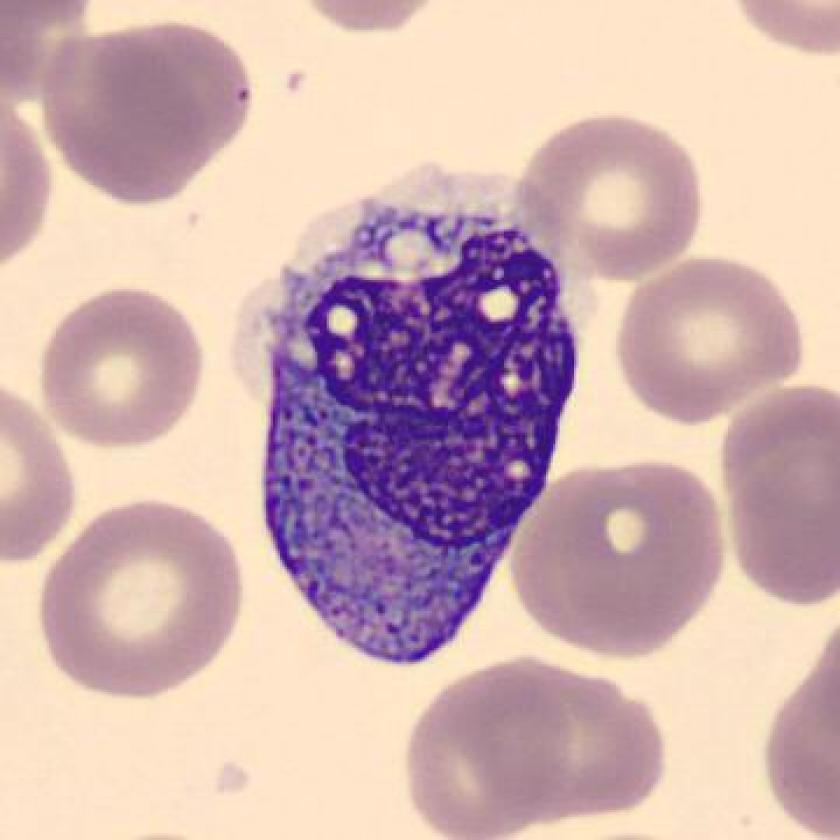monocyte: (225, 156, 603, 691)
